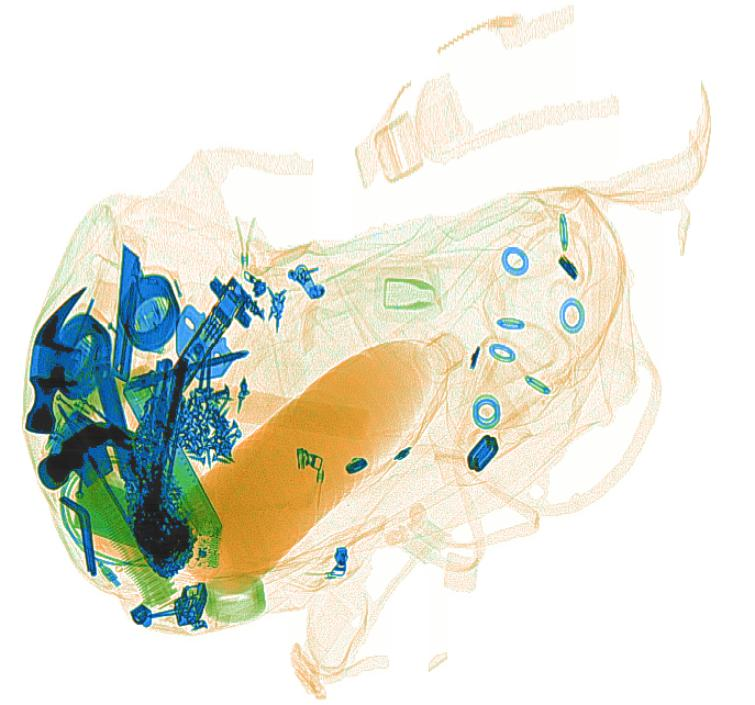knife: (121, 368, 222, 543), (92, 355, 138, 483), (109, 242, 142, 385)
